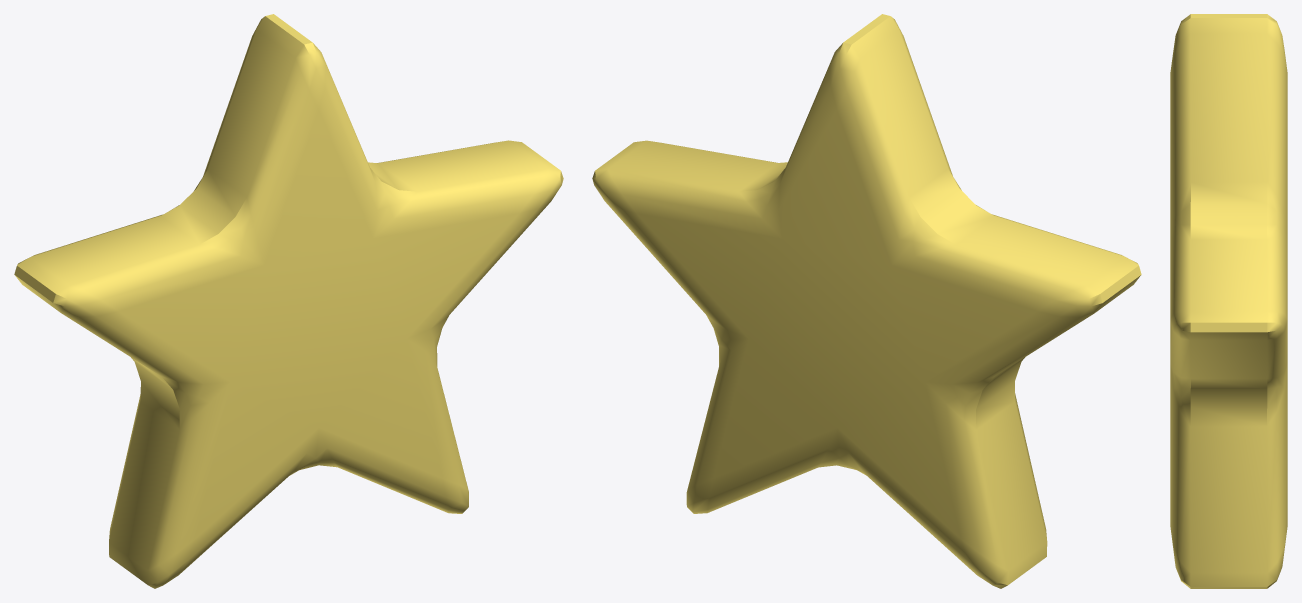
The model's file is star.glb.
3 views of the same model, side by side, from view 1: azimuth 30°, elevation 25°; view 2: azimuth 150°, elevation 25°; view 3: azimuth 270°, elevation 25° (orthographic).
Parts seen in each view (by area): view 1: StarBody; view 2: StarBody; view 3: StarBody.
Part boxes in pixels (box(x1,y1,x2,y2)): StarBody: box(14, 14, 563, 588); StarBody: box(592, 14, 1141, 588); StarBody: box(1170, 14, 1287, 588).
Size of the model in its own units: 0.8871 by 0.8437 by 0.18.
